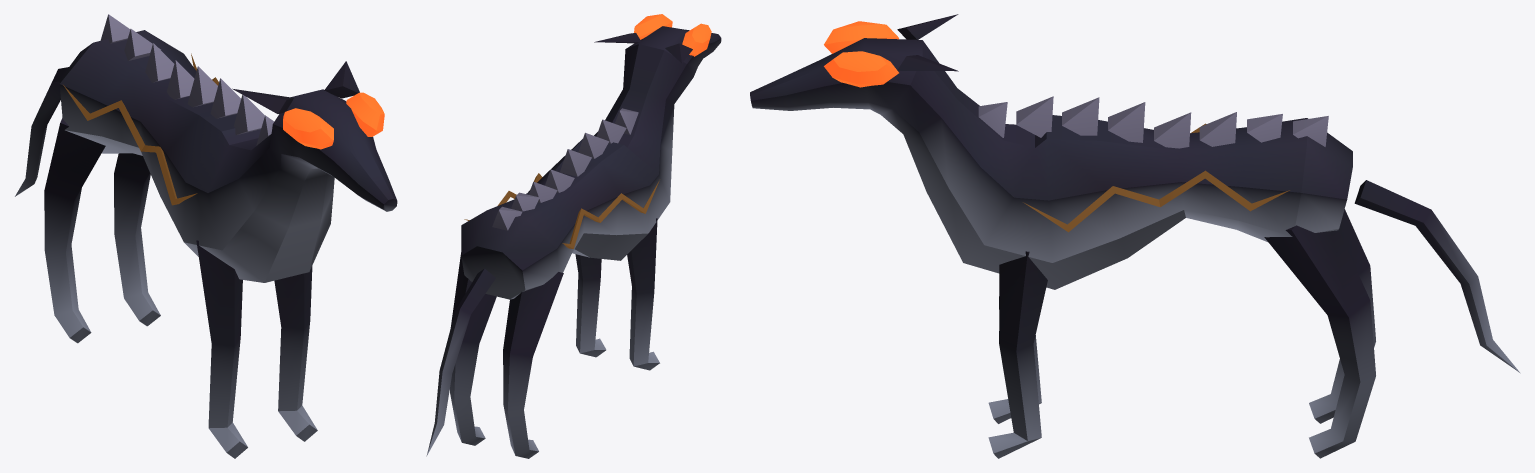
File: hound_v2.glb
3 renders of one model, left to right at view 1: azimuth 30°, elevation 25°; view 2: azimuth 150°, elevation 25°; view 3: azimuth 270°, elevation 25°, orthographic. The views are drawn at different scales.
Visible parts, largest first — view 1: hound; view 2: hound; view 3: hound.
Part boxes in pixels (left/top/right/bottom): hound: left=15, top=14, right=397, bottom=458; hound: left=426, top=14, right=721, bottom=458; hound: left=750, top=14, right=1520, bottom=458.
Size of the model in its own units: 0.2734 by 0.776 by 1.34.
